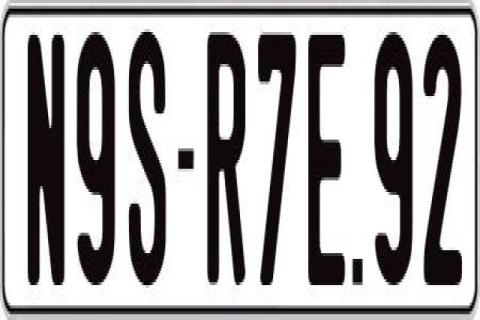0: (371, 29, 415, 282), (422, 35, 464, 288), (258, 35, 299, 288), (74, 32, 112, 294)
E: (308, 29, 346, 285)
N: (27, 29, 66, 288)
R: (208, 27, 245, 280)
S: (127, 29, 169, 294)
